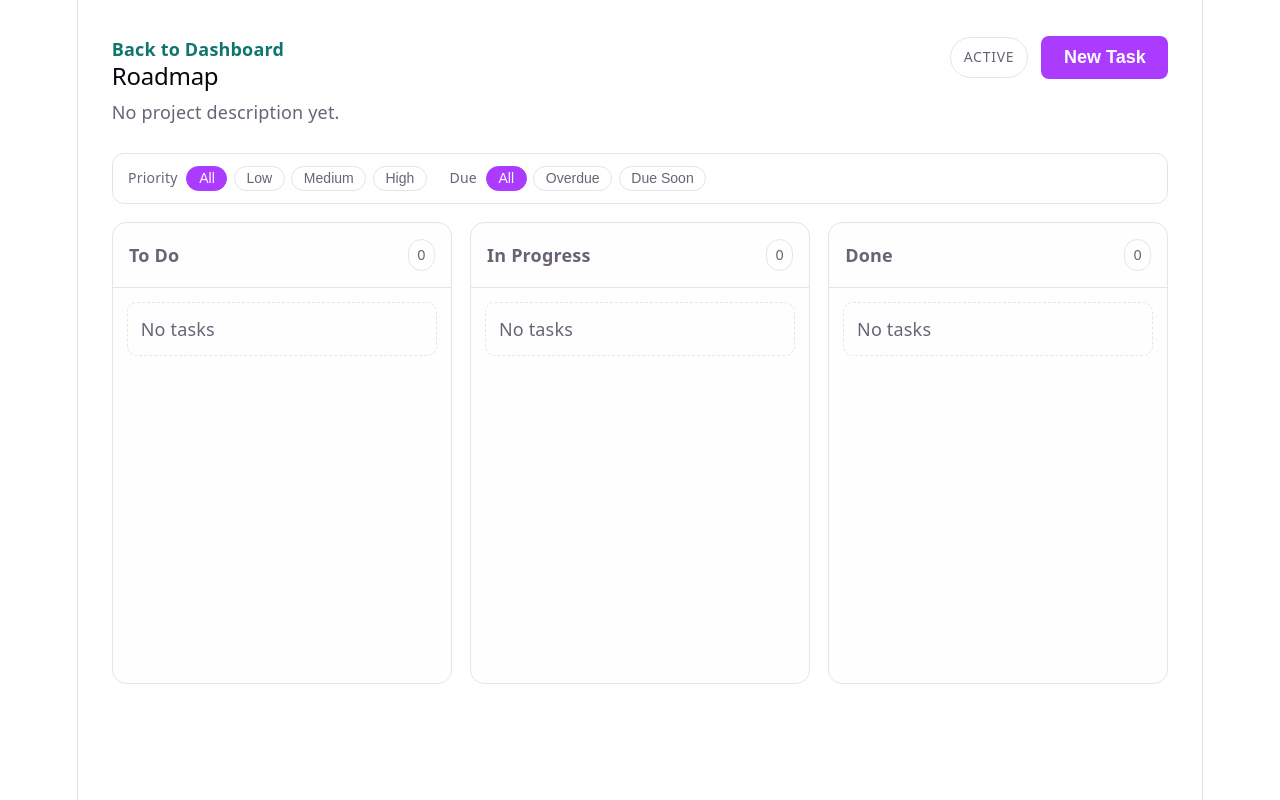
Test: ProjectDetails › creates a task and shows success toast
This screenshot has width=1280, height=800.
Expected: the heading "Roadmap" is shown, [112,59,218,92]
Click the button "New Task".
click(1105, 57)  # box [1041,36,1168,79]
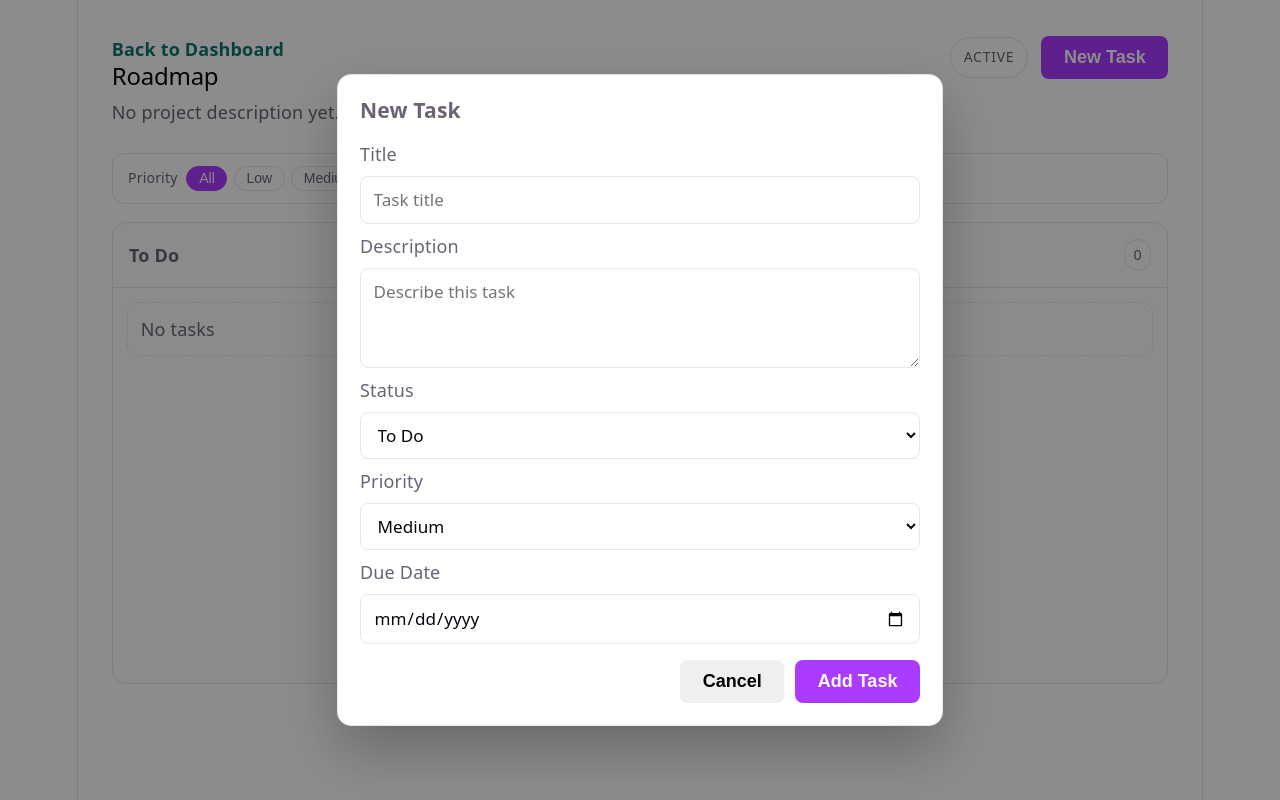
Type " Write tests " into the field labelled "Title".
click(640, 200); type(" Write tests ")  # box [360,176,920,224]
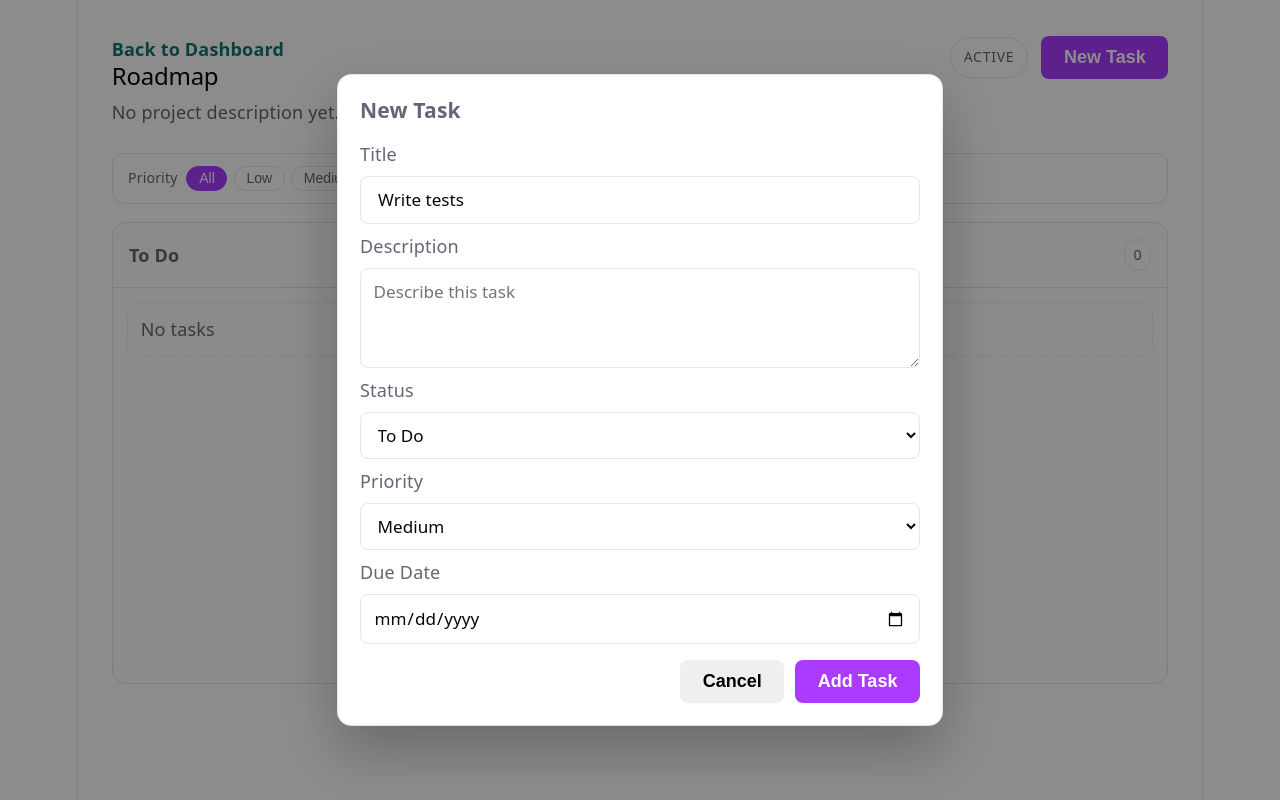
Type " For project details " into the text box labelled "Description".
click(640, 318); type(" For project details ")  # box [360,268,920,368]
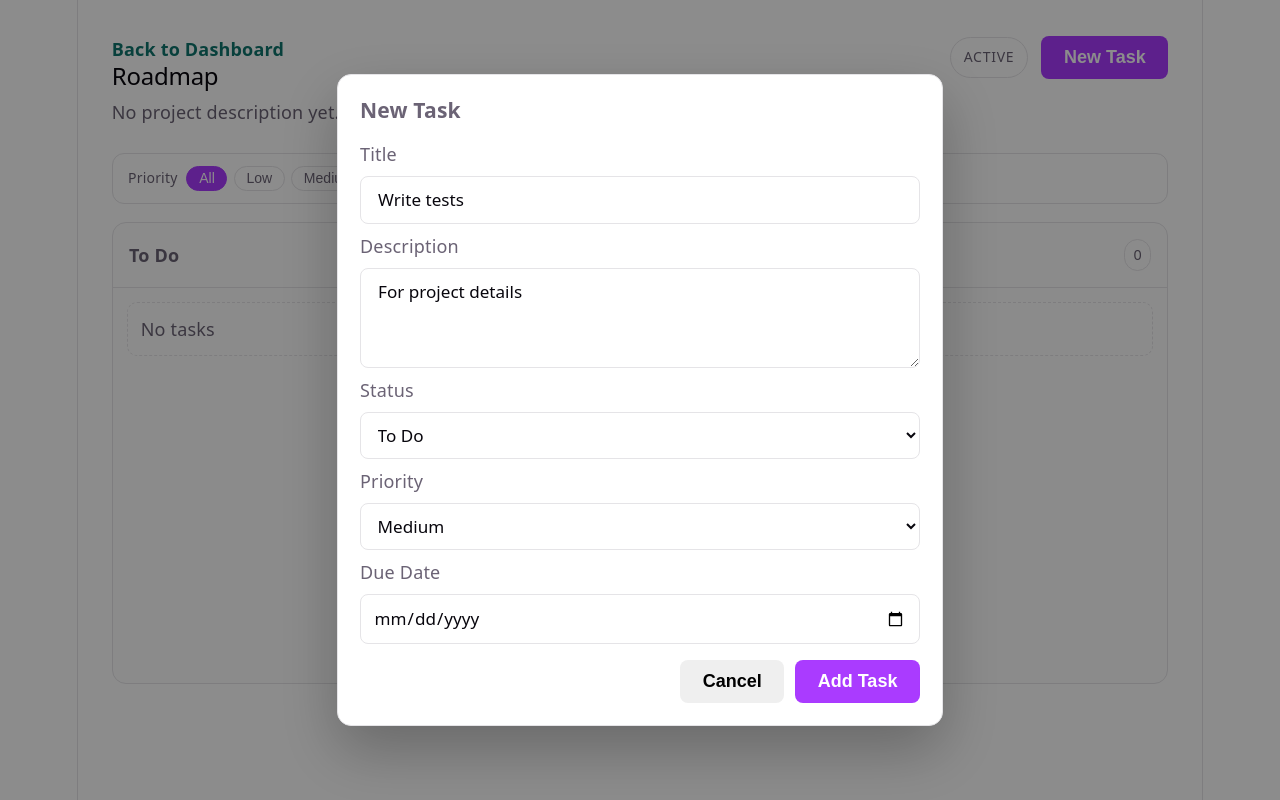
Select "High" in the dropdown labelled "Priority" at {"x": 640, "y": 527}, box [360,503,920,550]
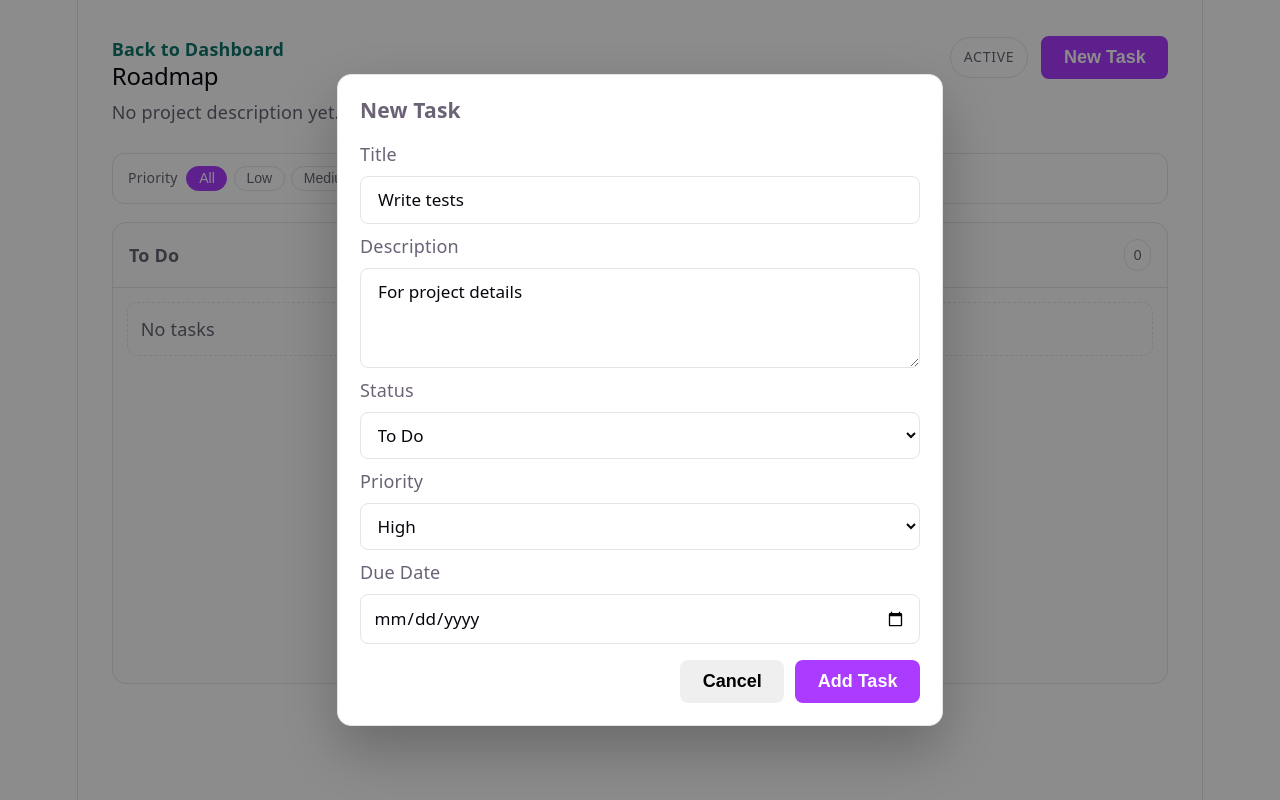
Type "2026-04-30" into the date field labelled "Due Date".
click(640, 619); type("2026-04-30")  # box [360,594,920,644]
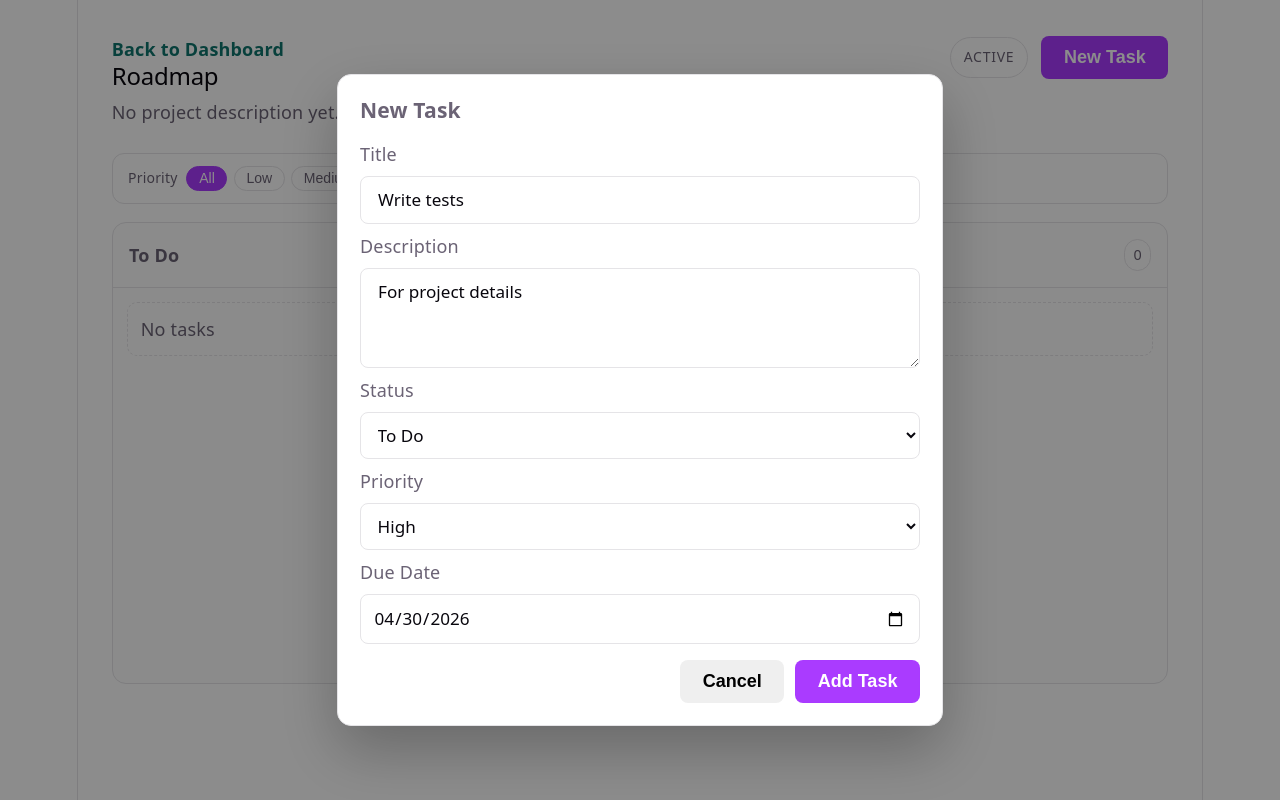
Click the button "Add Task".
click(858, 682)  # box [795,660,920,703]
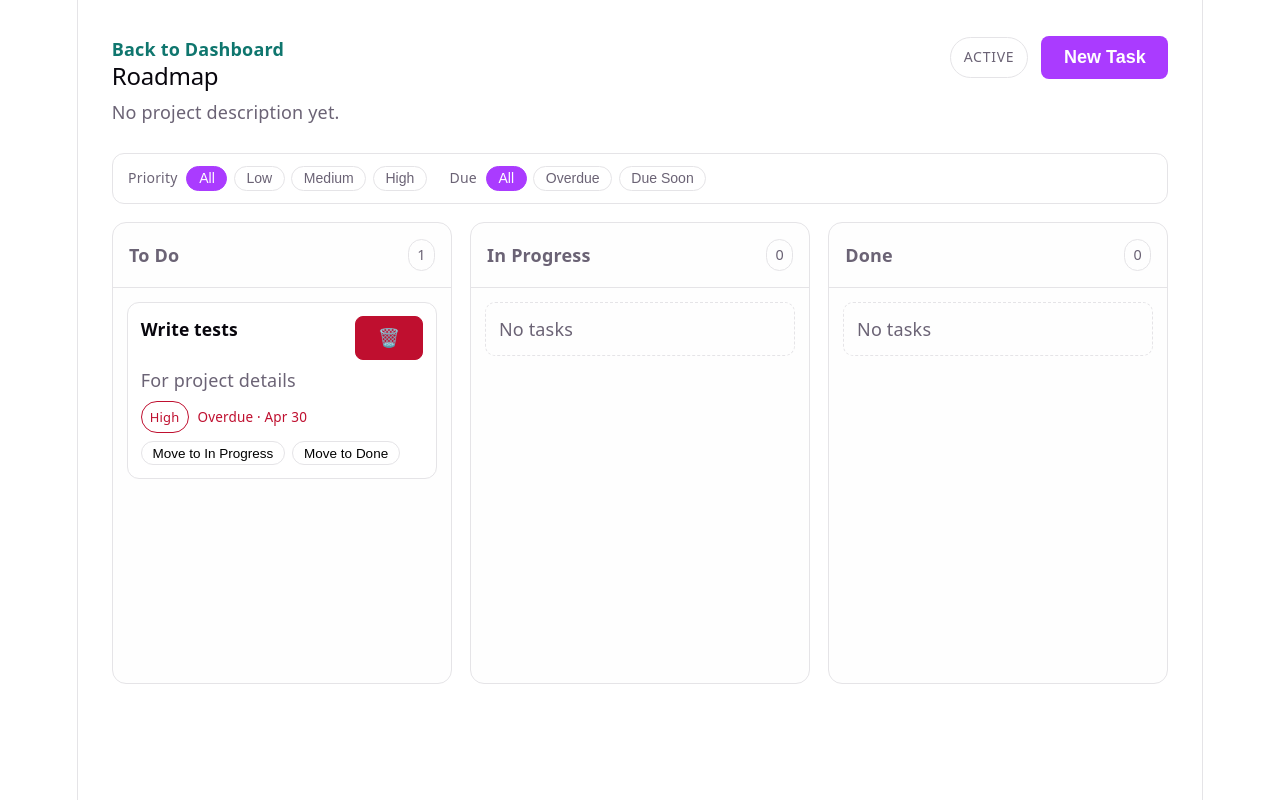
Now the heading "Write tests" is shown, box [141,316,238,342]
